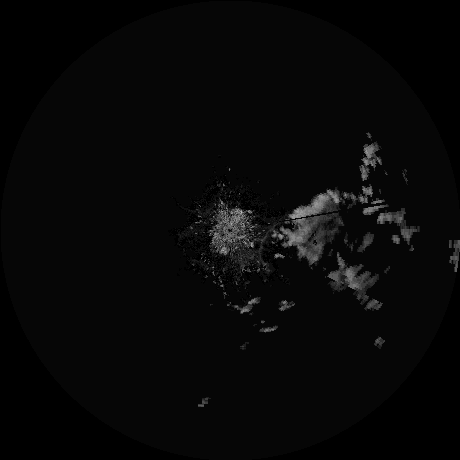frontgust: (257, 227, 274, 271)
